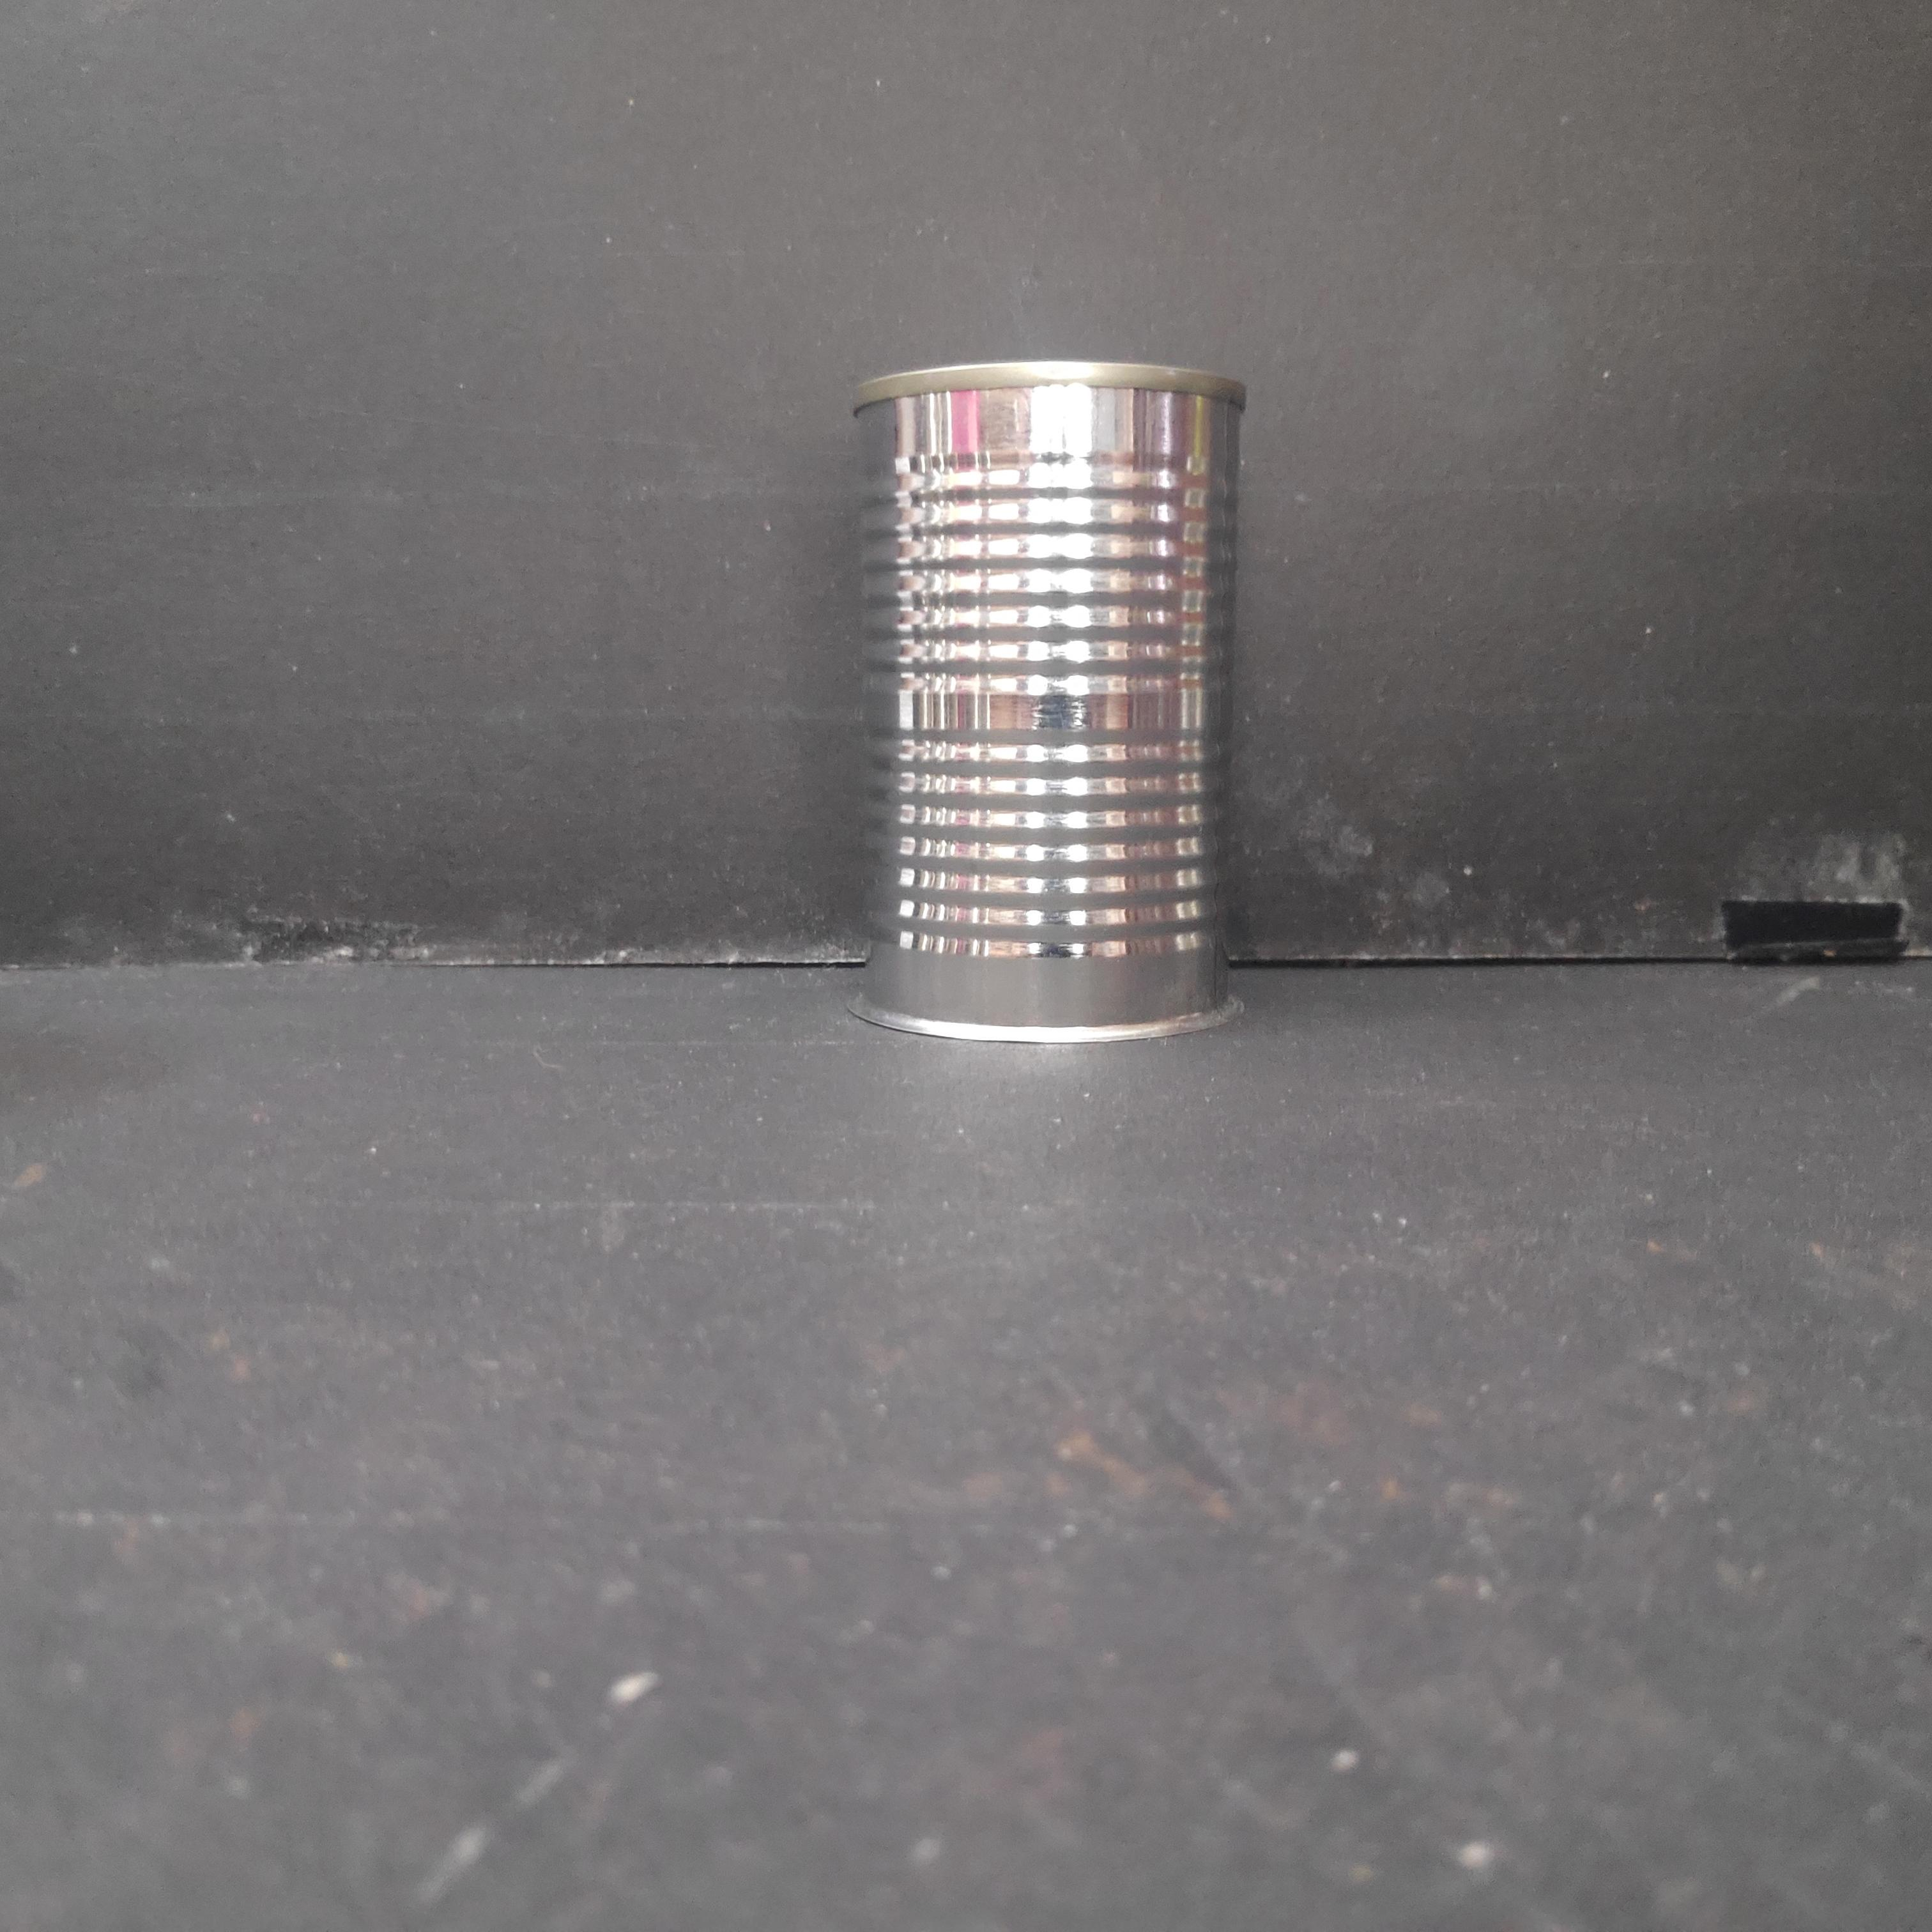No defect: (842, 356, 1247, 1047)
